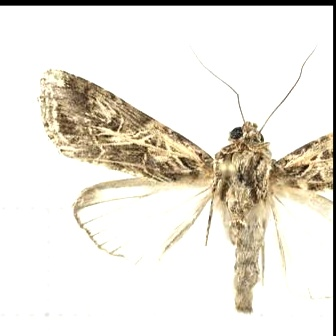Spodoptera litura: (37, 42, 333, 317)
